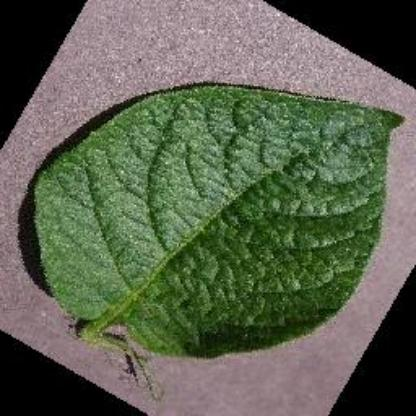Healthy-plant: (27, 82, 406, 356)
